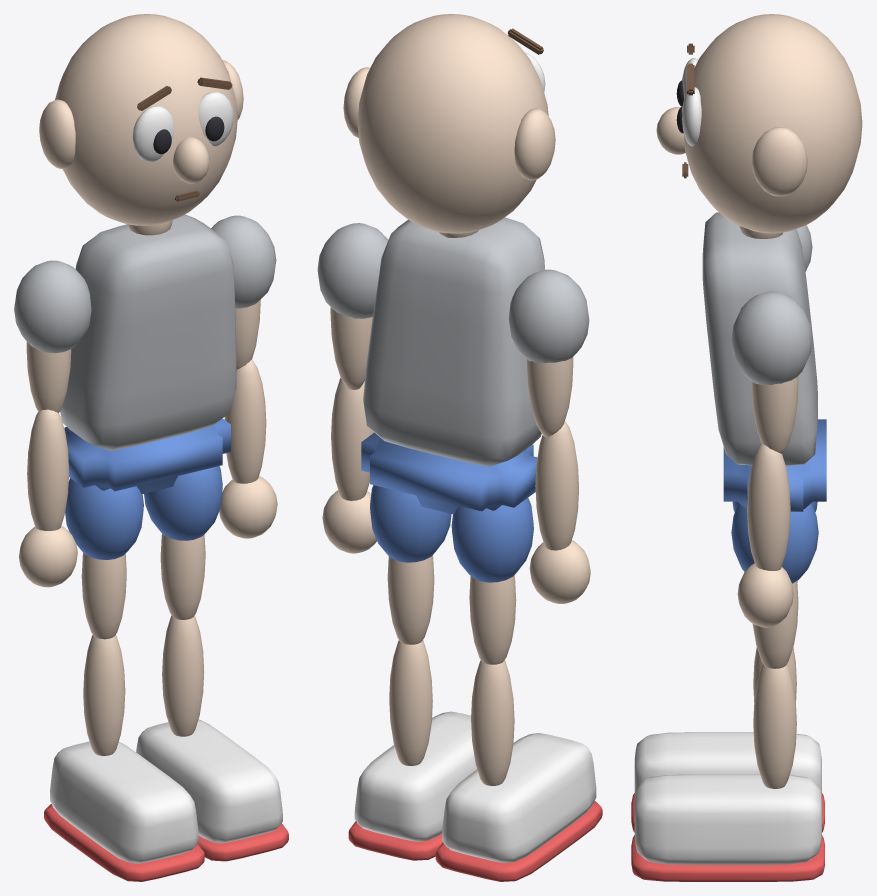
The model's file is Body_Normie.fbx.
3 views of the same model, side by side, from view 1: azimuth 30°, elevation 25°; view 2: azimuth 150°, elevation 25°; view 3: azimuth 270°, elevation 25° (orthographic). The views are drawn at different scales.
Visible parts, largest first — view 1: Normie_UpperTorso, Normie_Head, Normie_LowerTorso, Normie_LeftFoot, Normie_RightFoot, Normie_LeftUpperArm_Sleeve, Normie_LeftLowerArm, Normie_RightLowerLeg, Normie_LeftLowerLeg, Normie_RightLowerArm, Normie_RightUpperArm_Sleeve, Normie_LeftFoot_Sole (+10 smaller); view 2: Normie_UpperTorso, Normie_Head, Normie_LowerTorso, Normie_LeftFoot, Normie_RightFoot, Normie_LeftUpperArm_Sleeve, Normie_RightUpperArm_Sleeve, Normie_RightLowerLeg, Normie_LeftLowerLeg, Normie_LeftLowerArm, Normie_RightLowerArm, Normie_LeftFoot_Sole (+7 smaller); view 3: Normie_Head, Normie_RightFoot, Normie_UpperTorso, Normie_LeftFoot, Normie_LowerTorso, Normie_RightUpperArm_Sleeve, Normie_RightLowerArm, Normie_RightLowerLeg, Normie_RightFoot_Sole, Normie_RightHand, Normie_RightUpperArm, Normie_RightUpperLeg (+2 smaller).
Boxes of the visible parts, x1=… form: Normie_UpperTorso: x1=60, y1=214, x2=236, y2=450; Normie_Head: x1=39, y1=14, x2=243, y2=225; Normie_LowerTorso: x1=64, y1=418, x2=230, y2=559; Normie_LeftFoot: x1=50, y1=741, x2=198, y2=863; Normie_RightFoot: x1=136, y1=719, x2=282, y2=843; Normie_LeftUpperArm_Sleeve: x1=14, y1=260, x2=91, y2=353; Normie_LeftLowerArm: x1=27, y1=409, x2=69, y2=530; Normie_RightLowerLeg: x1=162, y1=615, x2=204, y2=736; Normie_LeftLowerLeg: x1=83, y1=635, x2=125, y2=755; Normie_RightLowerArm: x1=224, y1=359, x2=266, y2=483; Normie_RightUpperArm_Sleeve: x1=211, y1=215, x2=276, y2=308; Normie_LeftFoot_Sole: x1=44, y1=804, x2=204, y2=881; Normie_UpperTorso: x1=363, y1=217, x2=544, y2=466; Normie_Head: x1=343, y1=14, x2=555, y2=233; Normie_LowerTorso: x1=361, y1=432, x2=537, y2=582; Normie_LeftFoot: x1=441, y1=733, x2=596, y2=863; Normie_RightFoot: x1=354, y1=711, x2=476, y2=841; Normie_LeftUpperArm_Sleeve: x1=508, y1=269, x2=589, y2=363; Normie_RightUpperArm_Sleeve: x1=317, y1=223, x2=388, y2=318; Normie_RightLowerLeg: x1=389, y1=640, x2=432, y2=765; Normie_LeftLowerLeg: x1=471, y1=660, x2=514, y2=785; Normie_LeftLowerArm: x1=535, y1=421, x2=578, y2=550; Normie_RightLowerArm: x1=331, y1=378, x2=373, y2=500; Normie_LeftFoot_Sole: x1=435, y1=801, x2=602, y2=881; Normie_Head: x1=656, y1=14, x2=862, y2=233; Normie_RightFoot: x1=634, y1=774, x2=821, y2=864; Normie_UpperTorso: x1=702, y1=212, x2=817, y2=465; Normie_LeftFoot: x1=634, y1=732, x2=821, y2=796; Normie_LowerTorso: x1=723, y1=419, x2=826, y2=583; Normie_RightUpperArm_Sleeve: x1=731, y1=291, x2=812, y2=385; Normie_RightLowerArm: x1=747, y1=443, x2=790, y2=570; Normie_RightLowerLeg: x1=753, y1=664, x2=796, y2=788; Normie_RightFoot_Sole: x1=631, y1=835, x2=824, y2=881; Normie_RightHand: x1=737, y1=563, x2=793, y2=627; Normie_RightUpperArm: x1=751, y1=376, x2=798, y2=454; Normie_RightUpperLeg: x1=752, y1=581, x2=798, y2=668.
Size of the model in its own units: 1.92 by 5.8 by 1.48.
